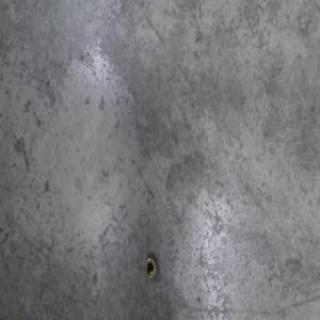Nuttrack_idkeyframe: (142, 253, 157, 281)
